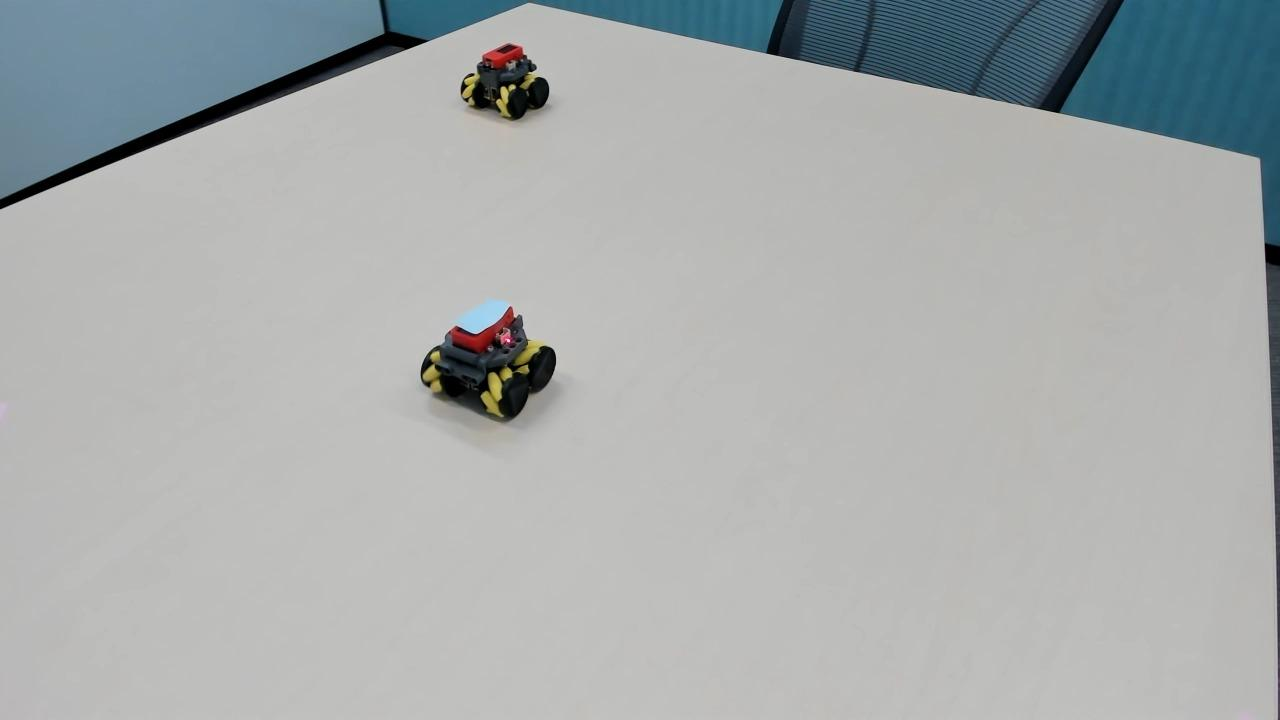B-Robot: (416, 286, 569, 440)
R-Robot: (456, 31, 559, 139)
